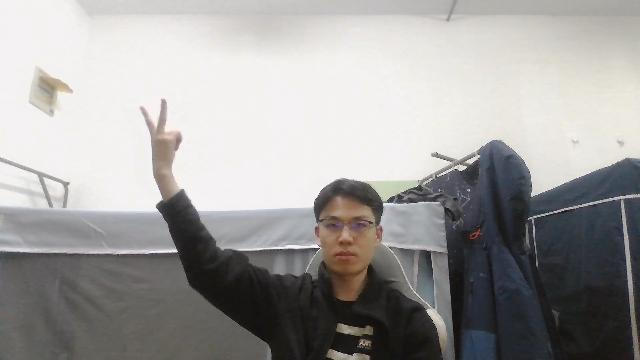yes: (136, 93, 185, 175)
